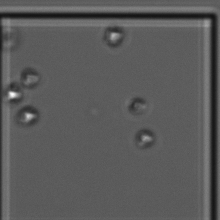Dead Cell: (1, 24, 24, 52)
Living Cell: (103, 26, 127, 48), (1, 84, 25, 106), (15, 106, 39, 128), (136, 128, 160, 150), (128, 97, 152, 119), (19, 65, 43, 87)
